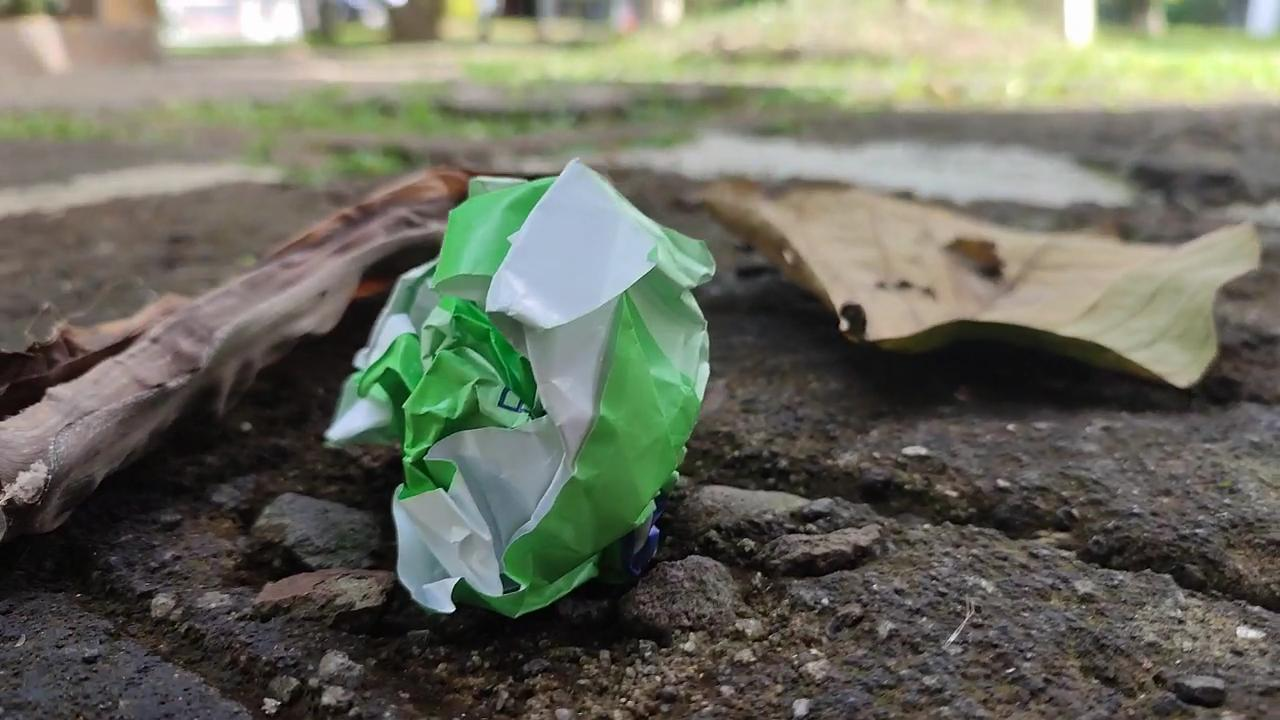Paper: (332, 154, 717, 614)
